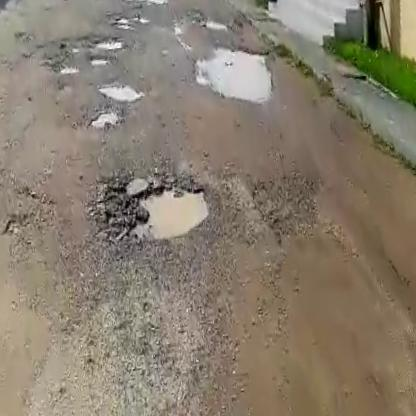pothole: (87, 159, 222, 255), (189, 44, 273, 108), (100, 74, 147, 105), (86, 104, 127, 131), (84, 33, 125, 53), (109, 11, 149, 30), (125, 0, 171, 11), (205, 16, 230, 33), (87, 53, 110, 70), (59, 66, 80, 77)
